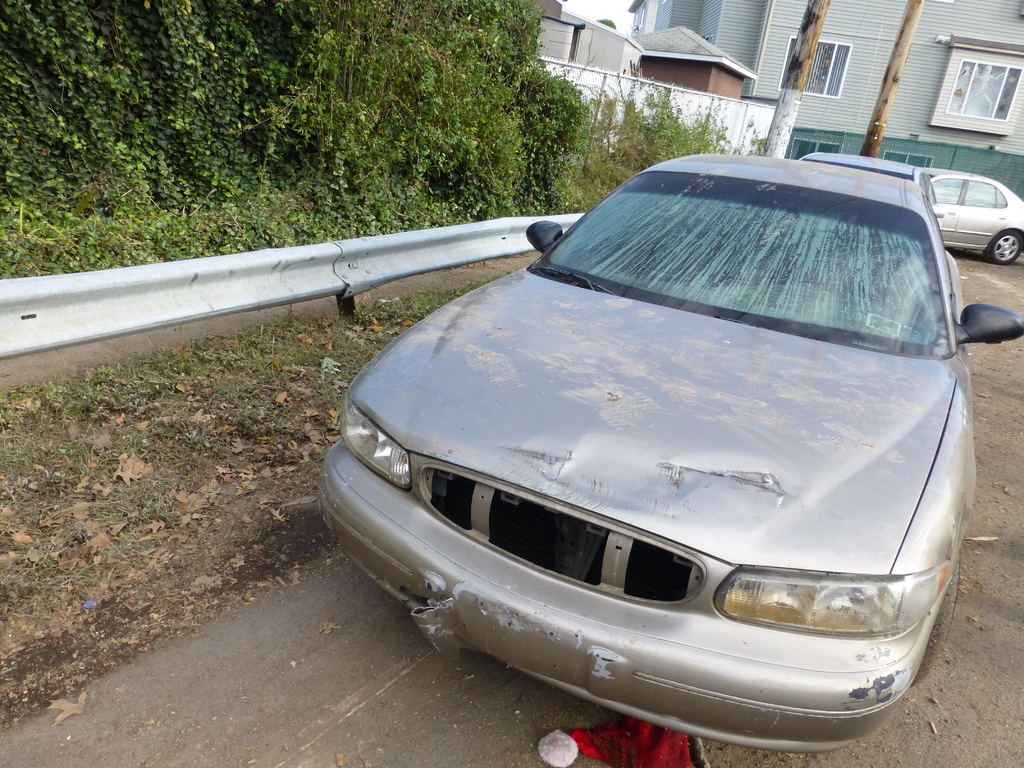Car: (311, 154, 1023, 751), (921, 161, 1023, 265), (800, 147, 933, 197)
